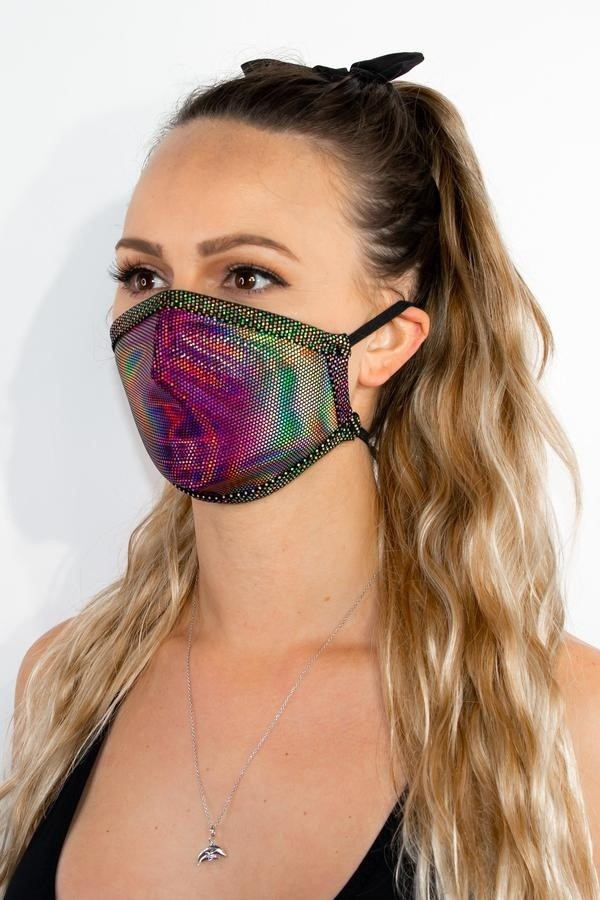face_with_mask: (105, 58, 498, 511)
